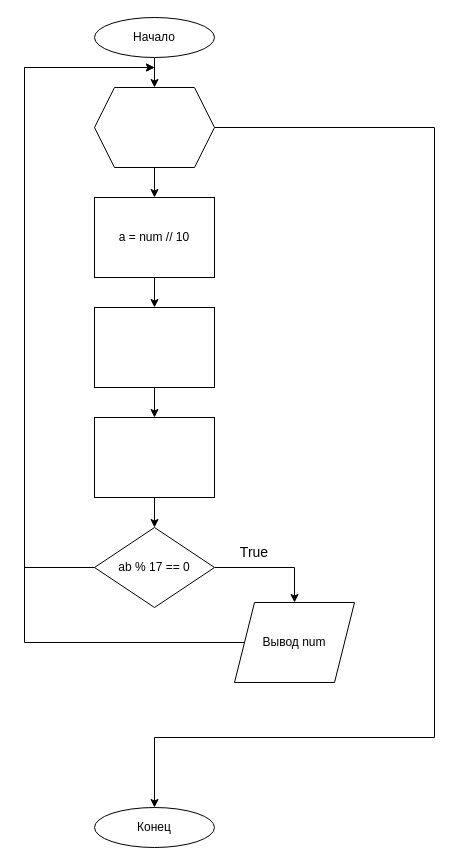
Some shapes in this 460 by 865 pixel diagram are drawn without their labels. The shapes that lost their labels are listed below. From the top down, each one's centre as x and y in pixels, then its label:
At point (154, 127): "num от 10 до 99".
At point (154, 347): "b = num % 10".
At point (154, 457): "ab = a**2 + b**2".
